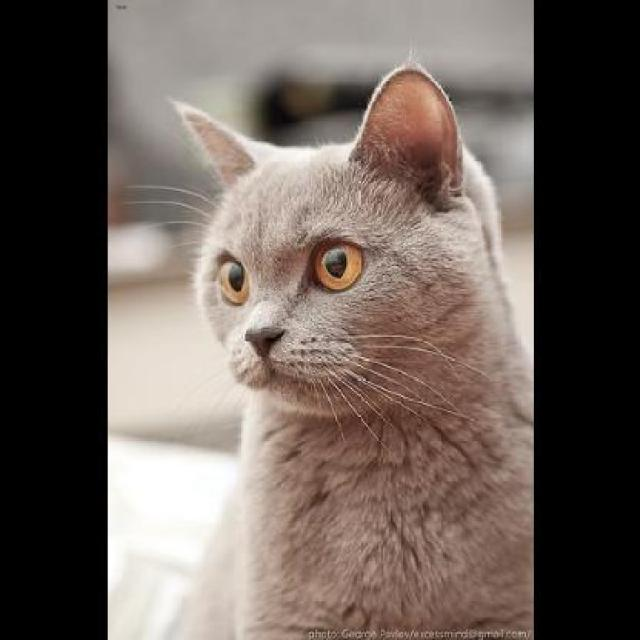unauthorized: (121, 52, 534, 638)
